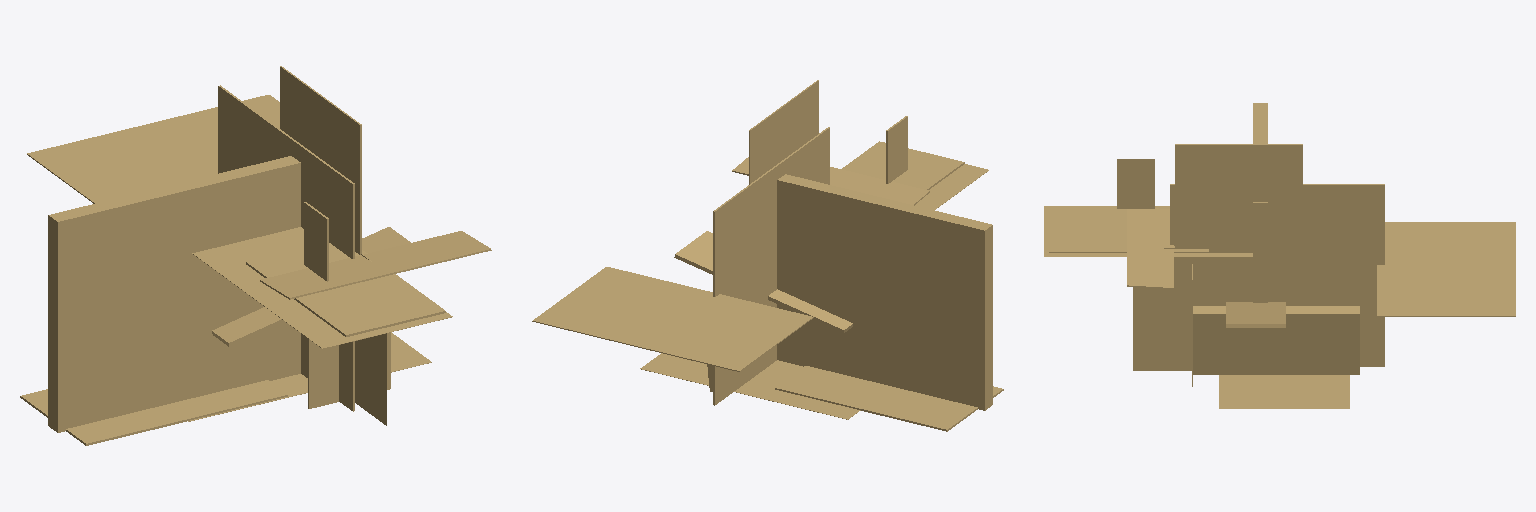
The robot description file, URDF, robot "evolved_design":
<?xml version="1.0" ?>
<robot name="evolved_design">
  <link name="base_link">
    <inertial>
      <mass value="0.001"/>
      <origin xyz="0 0 0" rpy="0 0 0"/>
      <inertia ixx="0.000001" ixy="0" ixz="0" iyy="0.000001" iyz="0" izz="0.000001"/>
    </inertial>
  </link>
  <link name="link_comp_0">
    <inertial>
      <mass value="0.213070"/>
      <origin xyz="0 0 0" rpy="0 0 0"/>
      <inertia ixx="0.003220040" ixy="0" ixz="0" iyy="0.009612903" iyz="0" izz="0.012832908"/>
    </inertial>
    <visual>
      <origin xyz="0 0 0" rpy="0 0 0"/>
      <geometry>
        <box size="0.735793 0.425852 0.001000"/>
      </geometry>
      <material name="link_comp_0_material">
        <color rgba="0.8 0.7 0.5 1"/>
      </material>
    </visual>
    <collision>
      <origin xyz="0 0 0" rpy="0 0 0"/>
      <geometry>
        <box size="0.735793 0.425852 0.001000"/>
      </geometry>
    </collision>
  </link>
  <joint name="base_link_to_link_comp_0" type="fixed">
    <parent link="base_link"/>
    <child link="link_comp_0"/>
    <origin xyz="0.367897 0.212926 0.000381" rpy="0.000000 0.000000 0.000000"/>
  </joint>
  <link name="link_comp_1">
    <inertial>
      <mass value="4.313431"/>
      <origin xyz="0 0 0" rpy="0 0 0"/>
      <inertia ixx="0.126658778" ixy="0" ixz="0" iyy="0.020284273" iyz="0" izz="0.108171768"/>
    </inertial>
    <visual>
      <origin xyz="0 0 0" rpy="0 0 0"/>
      <geometry>
        <box size="0.050000 0.546292 0.232231"/>
      </geometry>
      <material name="link_comp_1_material">
        <color rgba="0.8 0.7 0.5 1"/>
      </material>
    </visual>
    <collision>
      <origin xyz="0 0 0" rpy="0 0 0"/>
      <geometry>
        <box size="0.050000 0.546292 0.232231"/>
      </geometry>
    </collision>
  </link>
  <joint name="base_link_to_link_comp_1" type="fixed">
    <parent link="base_link"/>
    <child link="link_comp_1"/>
    <origin xyz="0.455643 0.187219 0.117377" rpy="0.000000 0.104094 0.000000"/>
  </joint>
  <link name="link_comp_2">
    <inertial>
      <mass value="0.788748"/>
      <origin xyz="0 0 0" rpy="0 0 0"/>
      <inertia ixx="0.033801547" ixy="0" ixz="0" iyy="0.022192854" iyz="0" izz="0.011611658"/>
    </inertial>
    <visual>
      <origin xyz="0 0 0" rpy="0 0 0"/>
      <geometry>
        <box size="0.004750 0.420282 0.581050"/>
      </geometry>
      <material name="link_comp_2_material">
        <color rgba="0.8 0.7 0.5 1"/>
      </material>
    </visual>
    <collision>
      <origin xyz="0 0 0" rpy="0 0 0"/>
      <geometry>
        <box size="0.004750 0.420282 0.581050"/>
      </geometry>
    </collision>
  </link>
  <joint name="base_link_to_link_comp_2" type="fixed">
    <parent link="base_link"/>
    <child link="link_comp_2"/>
    <origin xyz="0.435892 0.063868 0.524517" rpy="0.000000 0.000000 0.000000"/>
  </joint>
  <link name="link_comp_3">
    <inertial>
      <mass value="0.307464"/>
      <origin xyz="0 0 0" rpy="0 0 0"/>
      <inertia ixx="0.000625379" ixy="0" ixz="0" iyy="0.009522012" iyz="0" izz="0.010146235"/>
    </inertial>
    <visual>
      <origin xyz="0 0 0" rpy="0 0 0"/>
      <geometry>
        <box size="0.609600 0.156158 0.004750"/>
      </geometry>
      <material name="link_comp_3_material">
        <color rgba="0.8 0.7 0.5 1"/>
      </material>
    </visual>
    <collision>
      <origin xyz="0 0 0" rpy="0 0 0"/>
      <geometry>
        <box size="0.609600 0.156158 0.004750"/>
      </geometry>
    </collision>
  </link>
  <joint name="base_link_to_link_comp_3" type="fixed">
    <parent link="base_link"/>
    <child link="link_comp_3"/>
    <origin xyz="0.434955 -0.224852 0.441956" rpy="-0.065774 0.000000 0.000000"/>
  </joint>
  <link name="link_comp_4">
    <inertial>
      <mass value="0.207379"/>
      <origin xyz="0 0 0" rpy="0 0 0"/>
      <inertia ixx="0.002554878" ixy="0" ixz="0" iyy="0.003633285" iyz="0" izz="0.001078755"/>
    </inertial>
    <visual>
      <origin xyz="0 0 0" rpy="0 0 0"/>
      <geometry>
        <box size="0.249824 0.003175 0.384484"/>
      </geometry>
      <material name="link_comp_4_material">
        <color rgba="0.8 0.7 0.5 1"/>
      </material>
    </visual>
    <collision>
      <origin xyz="0 0 0" rpy="0 0 0"/>
      <geometry>
        <box size="0.249824 0.003175 0.384484"/>
      </geometry>
    </collision>
  </link>
  <joint name="base_link_to_link_comp_4" type="fixed">
    <parent link="base_link"/>
    <child link="link_comp_4"/>
    <origin xyz="0.435334 -0.088014 0.192242" rpy="0.000000 0.000000 0.000000"/>
  </joint>
  <link name="link_comp_5">
    <inertial>
      <mass value="1.995208"/>
      <origin xyz="0 0 0" rpy="0 0 0"/>
      <inertia ixx="0.154036215" ixy="0" ixz="0" iyy="0.071598802" iyz="0" izz="0.082450822"/>
    </inertial>
    <visual>
      <origin xyz="0 0 0" rpy="0 0 0"/>
      <geometry>
        <box size="0.006350 0.704168 0.656189"/>
      </geometry>
      <material name="link_comp_5_material">
        <color rgba="0.8 0.7 0.5 1"/>
      </material>
    </visual>
    <collision>
      <origin xyz="0 0 0" rpy="0 0 0"/>
      <geometry>
        <box size="0.006350 0.704168 0.656189"/>
      </geometry>
    </collision>
  </link>
  <joint name="base_link_to_link_comp_5" type="fixed">
    <parent link="base_link"/>
    <child link="link_comp_5"/>
    <origin xyz="0.406259 0.190234 0.328868" rpy="0.000000 0.000000 0.000000"/>
  </joint>
  <link name="link_comp_6">
    <inertial>
      <mass value="1.035095"/>
      <origin xyz="0 0 0" rpy="0 0 0"/>
      <inertia ixx="0.003348512" ixy="0" ixz="0" iyy="0.032068390" iyz="0" izz="0.035389077"/>
    </inertial>
    <visual>
      <origin xyz="0 0 0" rpy="0 0 0"/>
      <geometry>
        <box size="0.609600 0.196618 0.012700"/>
      </geometry>
      <material name="link_comp_6_material">
        <color rgba="0.8 0.7 0.5 1"/>
      </material>
    </visual>
    <collision>
      <origin xyz="0 0 0" rpy="0 0 0"/>
      <geometry>
        <box size="0.609600 0.196618 0.012700"/>
      </geometry>
    </collision>
  </link>
  <joint name="base_link_to_link_comp_6" type="fixed">
    <parent link="base_link"/>
    <child link="link_comp_6"/>
    <origin xyz="0.433792 0.119749 0.240343" rpy="0.000000 -0.195291 0.000000"/>
  </joint>
  <link name="link_comp_7">
    <inertial>
      <mass value="0.680611"/>
      <origin xyz="0 0 0" rpy="0 0 0"/>
      <inertia ixx="0.015480318" ixy="0" ixz="0" iyy="0.005165872" iyz="0" izz="0.020641616"/>
    </inertial>
    <visual>
      <origin xyz="0 0 0" rpy="0 0 0"/>
      <geometry>
        <box size="0.301729 0.522395 0.006350"/>
      </geometry>
      <material name="link_comp_7_material">
        <color rgba="0.8 0.7 0.5 1"/>
      </material>
    </visual>
    <collision>
      <origin xyz="0 0 0" rpy="0 0 0"/>
      <geometry>
        <box size="0.301729 0.522395 0.006350"/>
      </geometry>
    </collision>
  </link>
  <joint name="base_link_to_link_comp_7" type="fixed">
    <parent link="base_link"/>
    <child link="link_comp_7"/>
    <origin xyz="0.304963 -0.294790 0.435906" rpy="0.000000 0.000000 0.000000"/>
  </joint>
  <link name="link_comp_8">
    <inertial>
      <mass value="0.318903"/>
      <origin xyz="0 0 0" rpy="0 0 0"/>
      <inertia ixx="0.018038372" ixy="0" ixz="0" iyy="0.005215593" iyz="0" izz="0.012822903"/>
    </inertial>
    <visual>
      <origin xyz="0 0 0" rpy="0 0 0"/>
      <geometry>
        <box size="0.001524 0.694630 0.443007"/>
      </geometry>
      <material name="link_comp_8_material">
        <color rgba="0.8 0.7 0.5 1"/>
      </material>
    </visual>
    <collision>
      <origin xyz="0 0 0" rpy="0 0 0"/>
      <geometry>
        <box size="0.001524 0.694630 0.443007"/>
      </geometry>
    </collision>
  </link>
  <joint name="base_link_to_link_comp_8" type="fixed">
    <parent link="base_link"/>
    <child link="link_comp_8"/>
    <origin xyz="0.436478 0.065222 0.221504" rpy="0.000000 0.000000 0.000000"/>
  </joint>
  <link name="link_comp_9">
    <inertial>
      <mass value="0.776109"/>
      <origin xyz="0 0 0" rpy="0 0 0"/>
      <inertia ixx="0.013358529" ixy="0" ixz="0" iyy="0.034693738" iyz="0" izz="0.048050747"/>
    </inertial>
    <visual>
      <origin xyz="0 0 0" rpy="0 0 0"/>
      <geometry>
        <box size="0.732403 0.454461 0.003429"/>
      </geometry>
      <material name="link_comp_9_material">
        <color rgba="0.8 0.7 0.5 1"/>
      </material>
    </visual>
    <collision>
      <origin xyz="0 0 0" rpy="0 0 0"/>
      <geometry>
        <box size="0.732403 0.454461 0.003429"/>
      </geometry>
    </collision>
  </link>
  <joint name="base_link_to_link_comp_9" type="fixed">
    <parent link="base_link"/>
    <child link="link_comp_9"/>
    <origin xyz="0.436421 0.741321 0.365619" rpy="0.000000 0.000000 0.000000"/>
  </joint>
  <link name="link_comp_10">
    <inertial>
      <mass value="16.042460"/>
      <origin xyz="0 0 0" rpy="0 0 0"/>
      <inertia ixx="0.500139949" ixy="0" ixz="0" iyy="1.297708116" iyz="0" izz="0.804252525"/>
    </inertial>
    <visual>
      <origin xyz="0 0 0" rpy="0 0 0"/>
      <geometry>
        <box size="0.774011 0.050000 0.609600"/>
      </geometry>
      <material name="link_comp_10_material">
        <color rgba="0.8 0.7 0.5 1"/>
      </material>
    </visual>
    <collision>
      <origin xyz="0 0 0" rpy="0 0 0"/>
      <geometry>
        <box size="0.774011 0.050000 0.609600"/>
      </geometry>
    </collision>
  </link>
  <joint name="base_link_to_link_comp_10" type="fixed">
    <parent link="base_link"/>
    <child link="link_comp_10"/>
    <origin xyz="0.055904 0.135510 0.304800" rpy="0.000000 0.000000 0.000000"/>
  </joint>
  <link name="link_comp_11">
    <inertial>
      <mass value="0.182885"/>
      <origin xyz="0 0 0" rpy="0 0 0"/>
      <inertia ixx="0.007070702" ixy="0" ixz="0" iyy="0.002376145" iyz="0" izz="0.009446816"/>
    </inertial>
    <visual>
      <origin xyz="0 0 0" rpy="0 0 0"/>
      <geometry>
        <box size="0.394854 0.681134 0.001000"/>
      </geometry>
      <material name="link_comp_11_material">
        <color rgba="0.8 0.7 0.5 1"/>
      </material>
    </visual>
    <collision>
      <origin xyz="0 0 0" rpy="0 0 0"/>
      <geometry>
        <box size="0.394854 0.681134 0.001000"/>
      </geometry>
    </collision>
  </link>
  <joint name="base_link_to_link_comp_11" type="fixed">
    <parent link="base_link"/>
    <child link="link_comp_11"/>
    <origin xyz="0.271806 -0.230846 0.424415" rpy="0.000000 0.000000 0.000000"/>
  </joint>
  <link name="link_comp_12">
    <inertial>
      <mass value="0.095640"/>
      <origin xyz="0 0 0" rpy="0 0 0"/>
      <inertia ixx="0.000380069" ixy="0" ixz="0" iyy="0.000260719" iyz="0" izz="0.000119992"/>
    </inertial>
    <visual>
      <origin xyz="0 0 0" rpy="0 0 0"/>
      <geometry>
        <box size="0.006350 0.122537 0.180755"/>
      </geometry>
      <material name="link_comp_12_material">
        <color rgba="0.8 0.7 0.5 1"/>
      </material>
    </visual>
    <collision>
      <origin xyz="0 0 0" rpy="0 0 0"/>
      <geometry>
        <box size="0.006350 0.122537 0.180755"/>
      </geometry>
    </collision>
  </link>
  <joint name="base_link_to_link_comp_12" type="fixed">
    <parent link="base_link"/>
    <child link="link_comp_12"/>
    <origin xyz="0.228854 -0.271686 0.576803" rpy="0.000000 0.000000 0.000000"/>
  </joint>
  <link name="link_comp_13">
    <inertial>
      <mass value="0.905764"/>
      <origin xyz="0 0 0" rpy="0 0 0"/>
      <inertia ixx="0.008940387" ixy="0" ixz="0" iyy="0.028052448" iyz="0" izz="0.036986748"/>
    </inertial>
    <visual>
      <origin xyz="0 0 0" rpy="0 0 0"/>
      <geometry>
        <box size="0.609600 0.344102 0.006350"/>
      </geometry>
      <material name="link_comp_13_material">
        <color rgba="0.8 0.7 0.5 1"/>
      </material>
    </visual>
    <collision>
      <origin xyz="0 0 0" rpy="0 0 0"/>
      <geometry>
        <box size="0.609600 0.344102 0.006350"/>
      </geometry>
    </collision>
  </link>
  <joint name="base_link_to_link_comp_13" type="fixed">
    <parent link="base_link"/>
    <child link="link_comp_13"/>
    <origin xyz="-0.002063 0.176435 0.003175" rpy="0.000000 0.000000 0.000000"/>
  </joint>
</robot>

--- Render facts (derived) ---
Views: 3 orthographic renders of the robot side by side, from view 1: azimuth 30°, elevation 25°; view 2: azimuth 150°, elevation 25°; view 3: azimuth 270°, elevation 25°.
Robot: evolved_design — 15 links, 14 joints (14 fixed); root link base_link; default pose: every joint at zero.
Visible links, largest first — view 1: link_comp_10, link_comp_9, link_comp_5, link_comp_7, link_comp_11, link_comp_2, link_comp_3, link_comp_13, link_comp_8, link_comp_6, link_comp_4, link_comp_12 (+1 smaller); view 2: link_comp_10, link_comp_9, link_comp_5, link_comp_13, link_comp_2, link_comp_0, link_comp_7, link_comp_6, link_comp_3, link_comp_11, link_comp_12; view 3: link_comp_2, link_comp_9, link_comp_1, link_comp_5, link_comp_8, link_comp_0, link_comp_3, link_comp_7, link_comp_10, link_comp_12, link_comp_6, link_comp_11.
Link boxes in pixels (x1,y1,x2,y2): link_comp_10: (48,156,300,432); link_comp_9: (27,95,279,203); link_comp_5: (218,85,354,411); link_comp_7: (246,243,445,336); link_comp_11: (192,227,452,348); link_comp_2: (280,66,361,254); link_comp_3: (260,231,491,299); link_comp_13: (20,380,287,445); link_comp_8: (355,254,386,425); link_comp_6: (212,227,410,346); link_comp_4: (308,332,390,408); link_comp_12: (304,202,328,281); link_comp_10: (777,174,992,410); link_comp_9: (532,267,813,371); link_comp_5: (713,127,829,405); link_comp_13: (775,366,1003,431); link_comp_2: (749,80,818,184); link_comp_0: (640,353,860,419); link_comp_7: (842,141,964,189); link_comp_6: (674,231,852,333); link_comp_3: (732,157,929,205); link_comp_11: (915,164,988,209); link_comp_12: (886,116,907,183); link_comp_2: (1175,144,1302,305); link_comp_9: (1377,222,1515,316); link_comp_1: (1193,306,1359,374); link_comp_5: (1170,184,1384,366); link_comp_8: (1133,248,1344,370); link_comp_0: (1219,375,1349,408); link_comp_3: (1127,208,1173,288); link_comp_7: (1049,213,1208,252); link_comp_10: (1253,103,1267,302); link_comp_12: (1117,159,1154,208); link_comp_6: (1226,302,1285,327); link_comp_11: (1044,206,1252,256).
Bounding box of the posed robot: 1.13 × 1.54 × 0.8157 m (x, y, z).
Geometry: primitives only (box / cylinder / sphere), no mesh files.